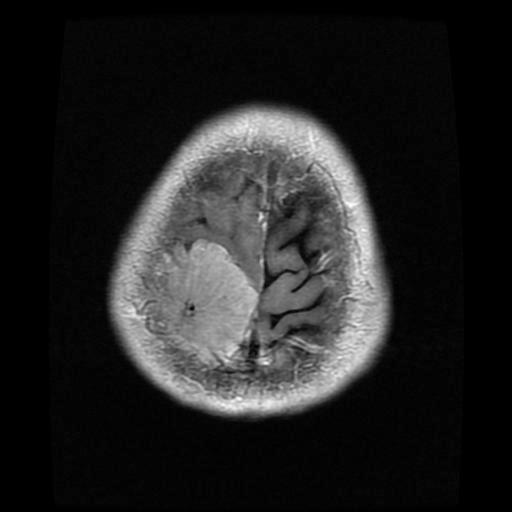Tumour-Pituitary: (139, 237, 278, 369)
